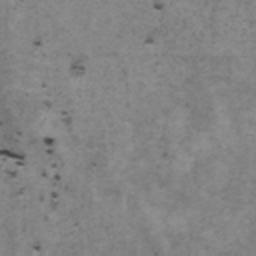Oxide scale of temperature system: (40, 136, 61, 200), (0, 147, 26, 178), (42, 99, 68, 116), (68, 59, 86, 79), (152, 1, 165, 12), (143, 36, 155, 44), (31, 40, 42, 47), (32, 244, 42, 251)
